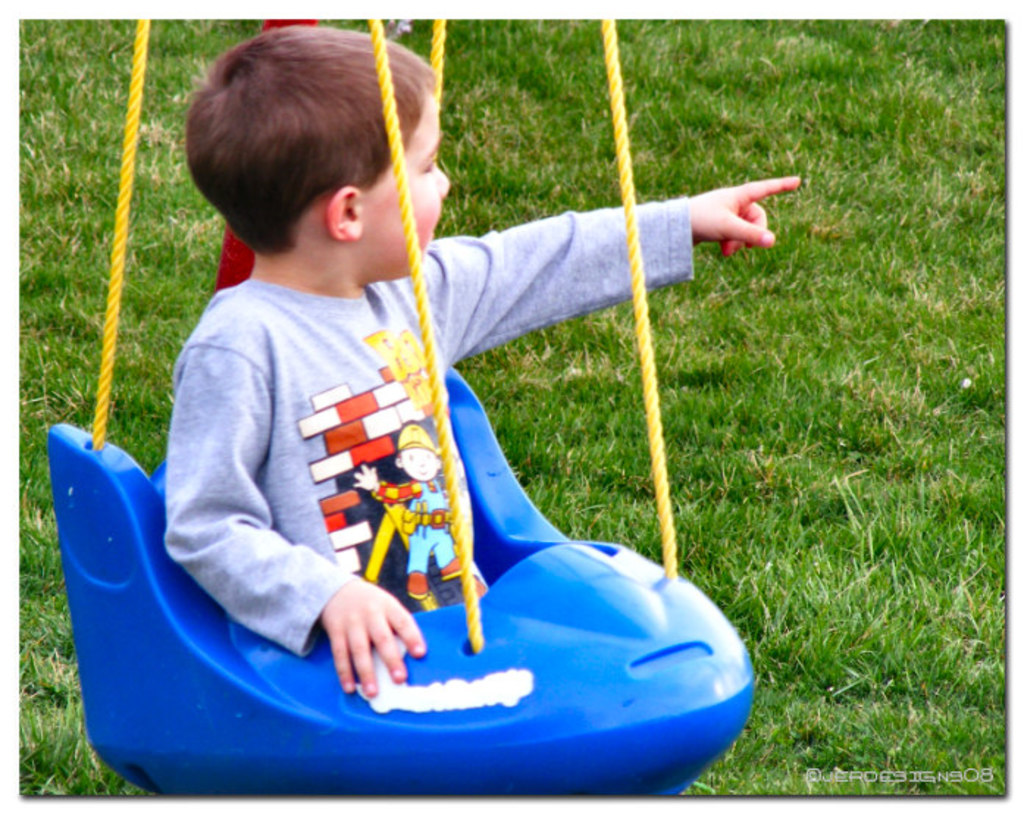face: (346, 100, 453, 266)
